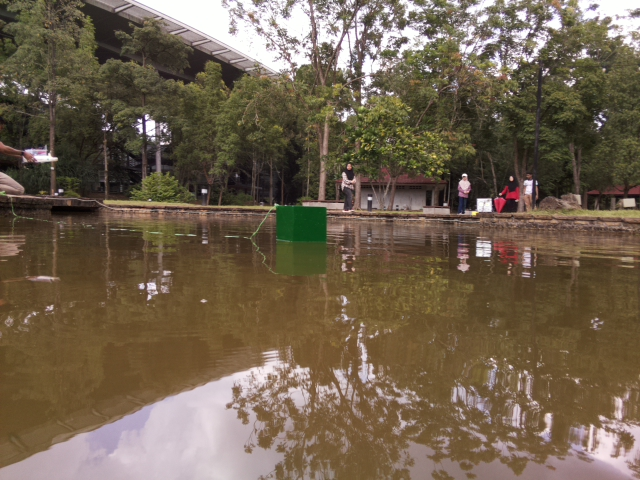obstacle: (276, 205, 328, 244)
